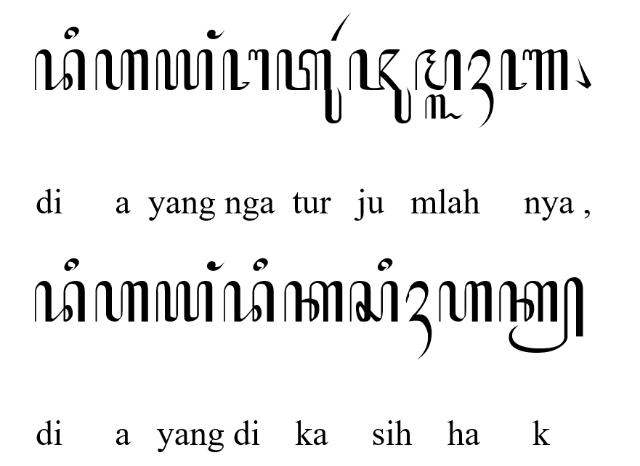-k: (498, 276, 584, 354)
_h1: (405, 280, 433, 360), (468, 48, 494, 128)
_l: (424, 94, 464, 120)
_r1: (331, 11, 352, 41)
d: (34, 48, 86, 92), (34, 280, 86, 324), (223, 281, 275, 323)
h: (438, 280, 492, 324), (94, 281, 150, 323), (95, 49, 149, 91)
i: (64, 258, 80, 273), (63, 26, 79, 40), (252, 258, 268, 272), (378, 258, 392, 272)
ju: (348, 48, 412, 124)
k: (283, 280, 343, 322)
kom: (574, 53, 592, 88)
m: (414, 48, 462, 92)
ng: (207, 261, 226, 271), (207, 30, 225, 40)
nga: (222, 47, 270, 90)
ny1: (500, 49, 570, 91)
s: (349, 280, 399, 322)
tu: (276, 48, 342, 124)
y: (155, 281, 213, 323), (156, 49, 212, 91)
